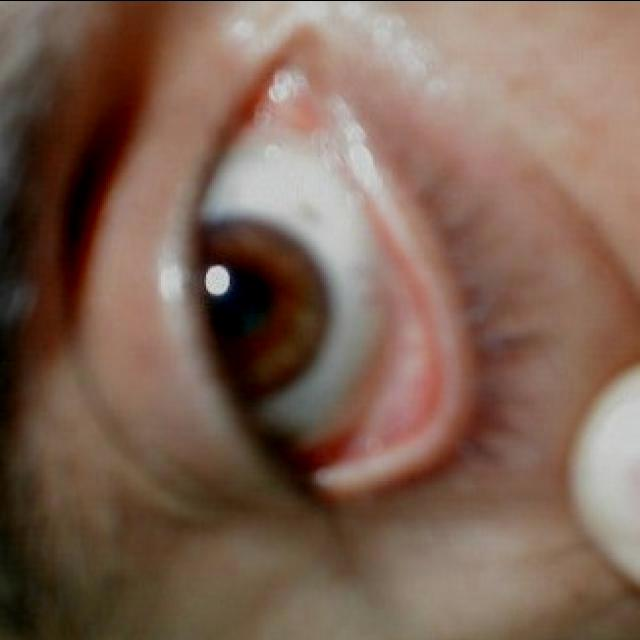conjunctiva_pallor: (311, 197, 438, 463)
